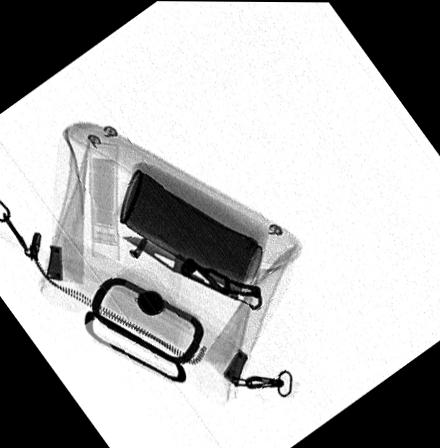Knife: (118, 233, 264, 310)
